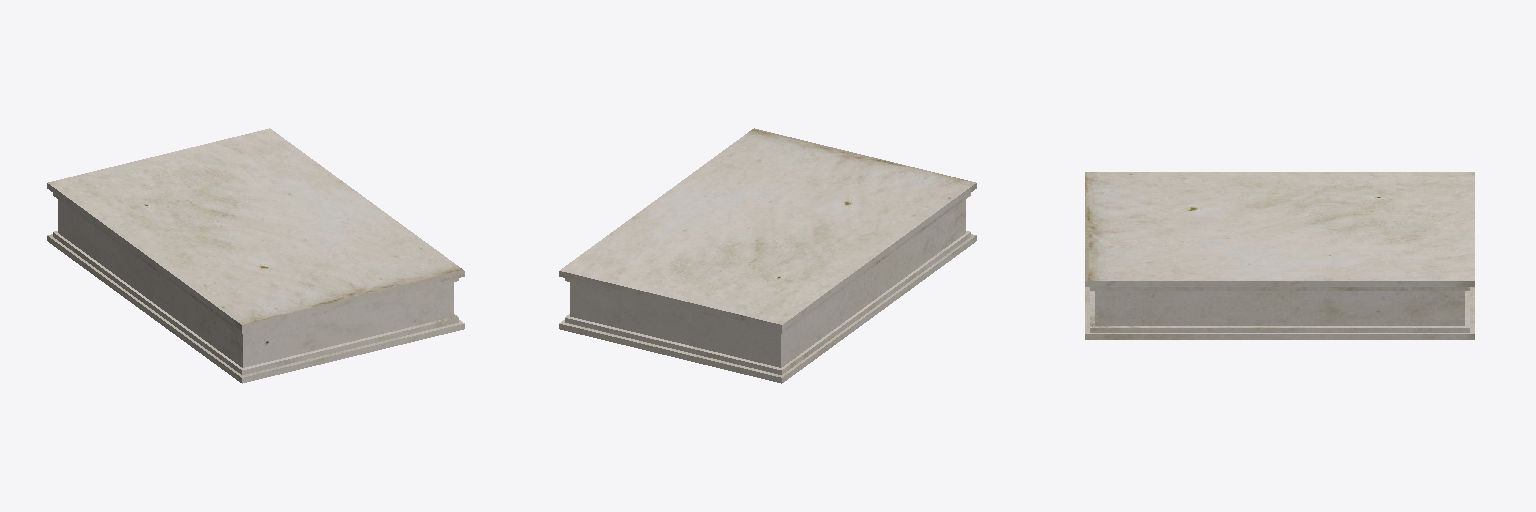
The picture shows the model from 3 angles: view 1: azimuth 30°, elevation 25°; view 2: azimuth 150°, elevation 25°; view 3: azimuth 270°, elevation 25°; orthographic projection.
Parts seen in each view (by area): view 1: polySurface490; view 2: polySurface490; view 3: polySurface490.
Boxes of the visible parts, <box> form: polySurface490: <box>47,128,464,383</box>; polySurface490: <box>559,128,976,383</box>; polySurface490: <box>1085,172,1474,339</box>.
Bounding box in the file's own units: 4.09 × 1.03 × 6.18.
Materials: 1 (1 with a texture image).